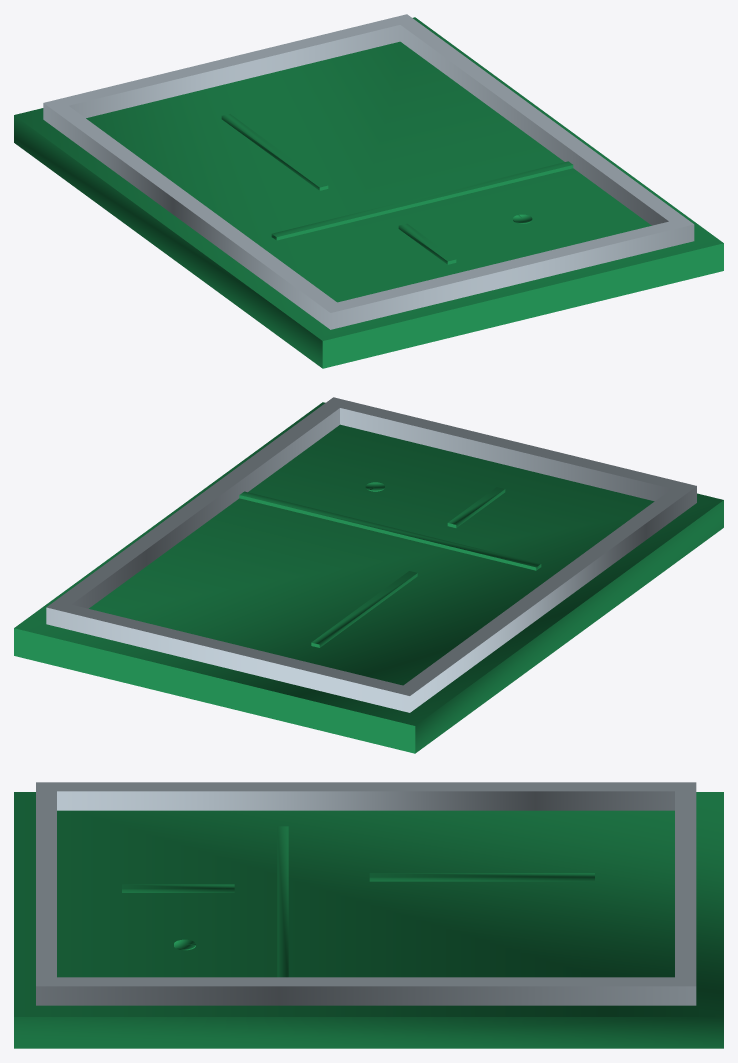
File: board3.fbx
The picture shows the model from 3 angles, top to bottom: view 1: azimuth 30°, elevation 25°; view 2: azimuth 150°, elevation 25°; view 3: azimuth 270°, elevation 25°; orthographic projection. The views are drawn at different scales.
Visible parts, largest first — view 1: Box002, Rectangle0; view 2: Box002, Rectangle0; view 3: Box002, Rectangle0.
Part boxes in pixels (x1,y1,x2,y2): Box002: [14, 17, 723, 368]; Rectangle0: [43, 14, 694, 329]; Box002: [14, 402, 723, 753]; Rectangle0: [46, 397, 696, 712]; Box002: [14, 792, 723, 1048]; Rectangle0: [36, 782, 696, 1005].
Bounding box in the file's own units: 135 × 14.34 × 180.
